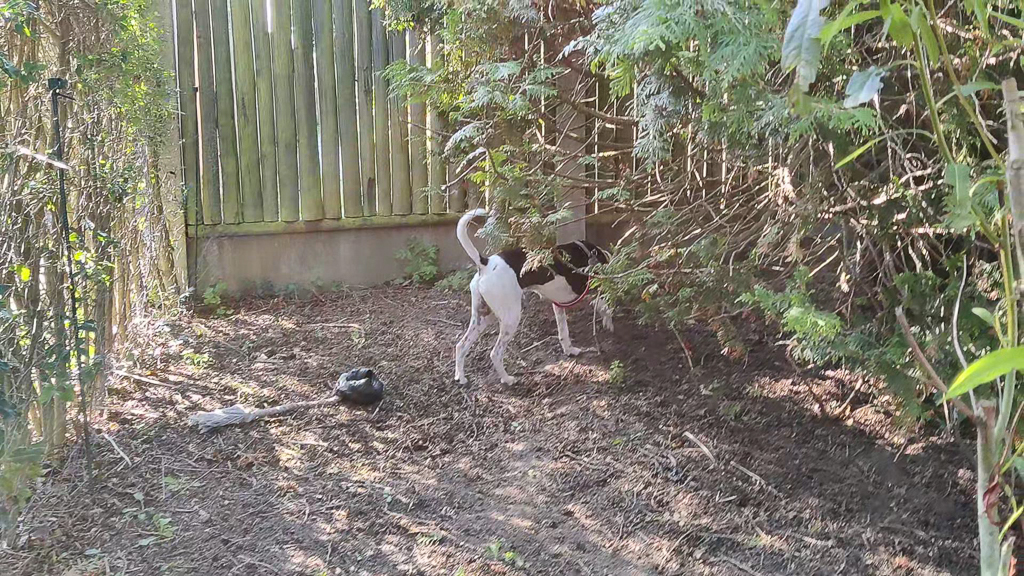Dog: (435, 197, 658, 392)
